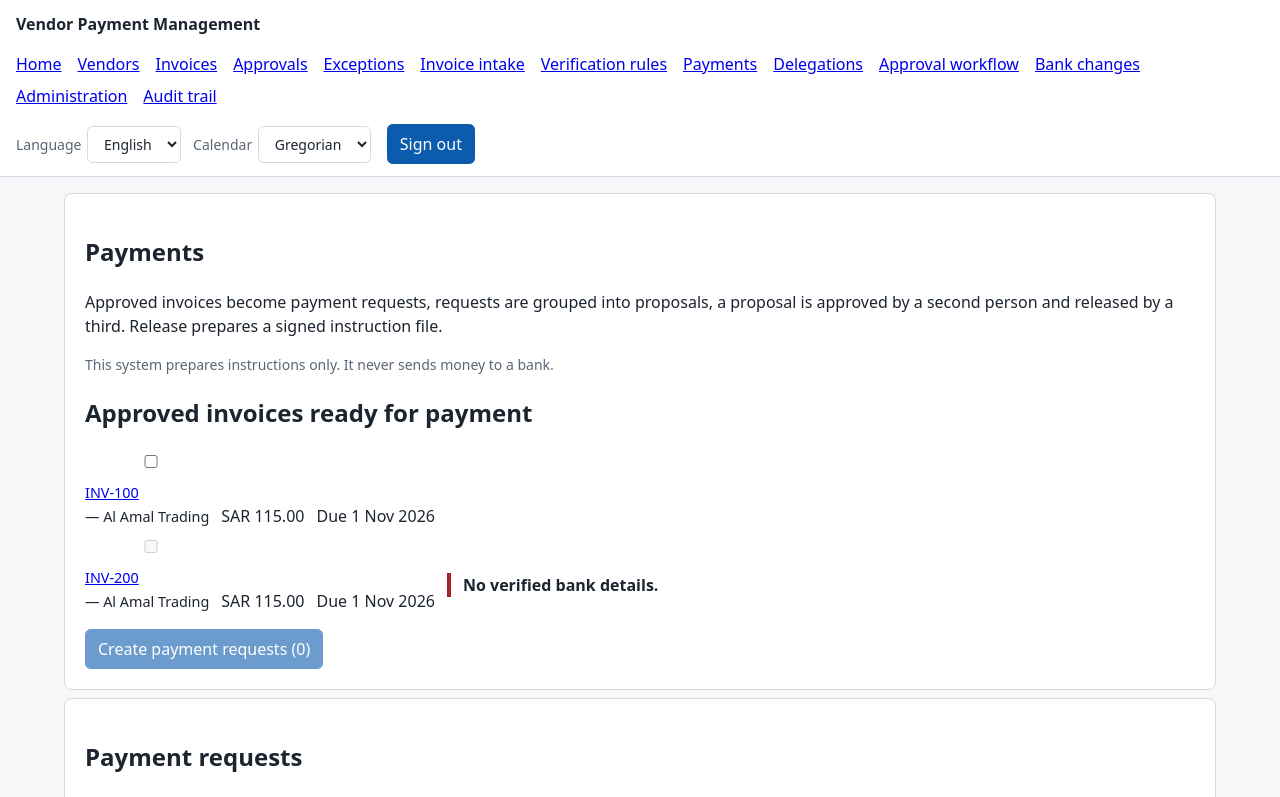
payments page › lists payable invoices, explains why one cannot be requested yet, and creates requests for the ticked ones
Expected: the text "No verified bank details." is shown, [447,573,670,597]
Expected: the checkbox labelled "INV-200 — Al Amal Trading" is disabled, [89,540,213,553]
Click the checkbox labelled "INV-100 — Al Amal Trading". click: (151, 462)
box: [89,455,213,468]
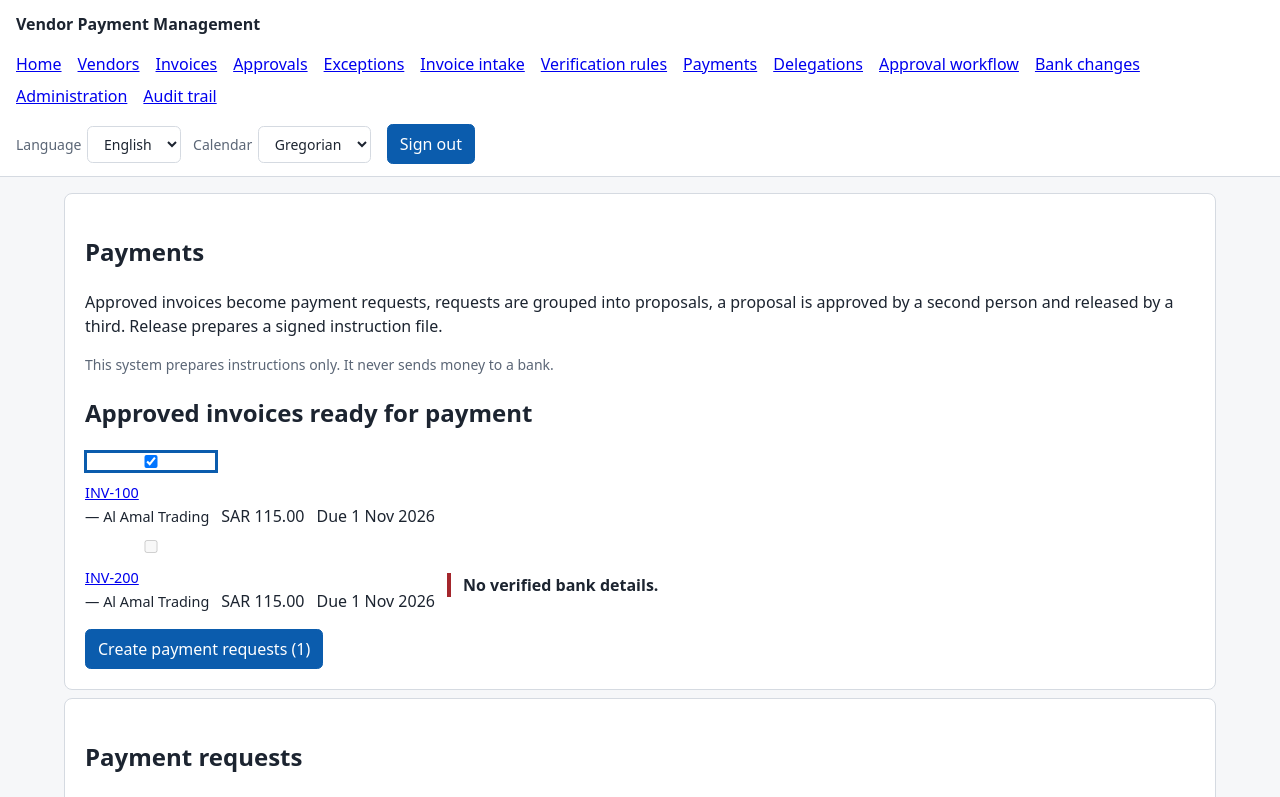
Click the button "Create payment requests (1)". click: (204, 649)
box: [85,629,323,669]
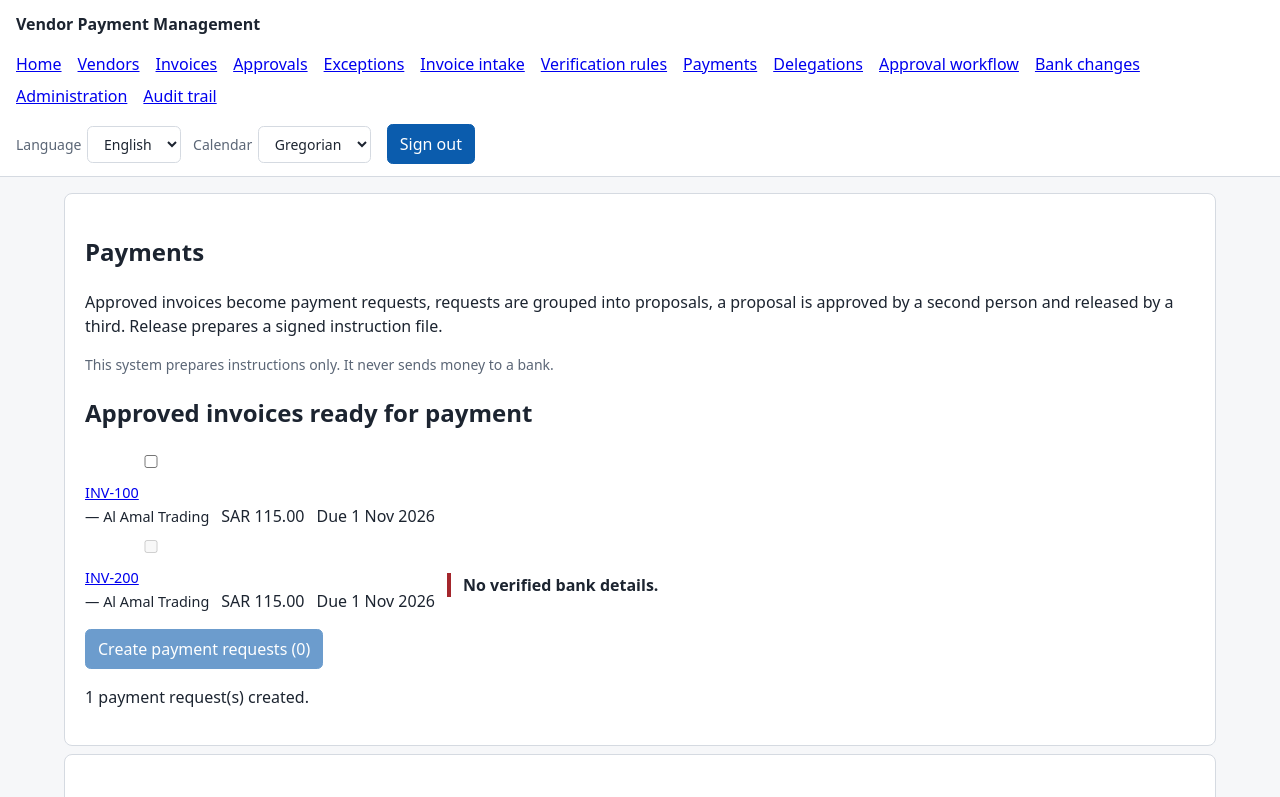
Expected: the list item "1 payment request(s) created." is shown, [85,686,309,708]
